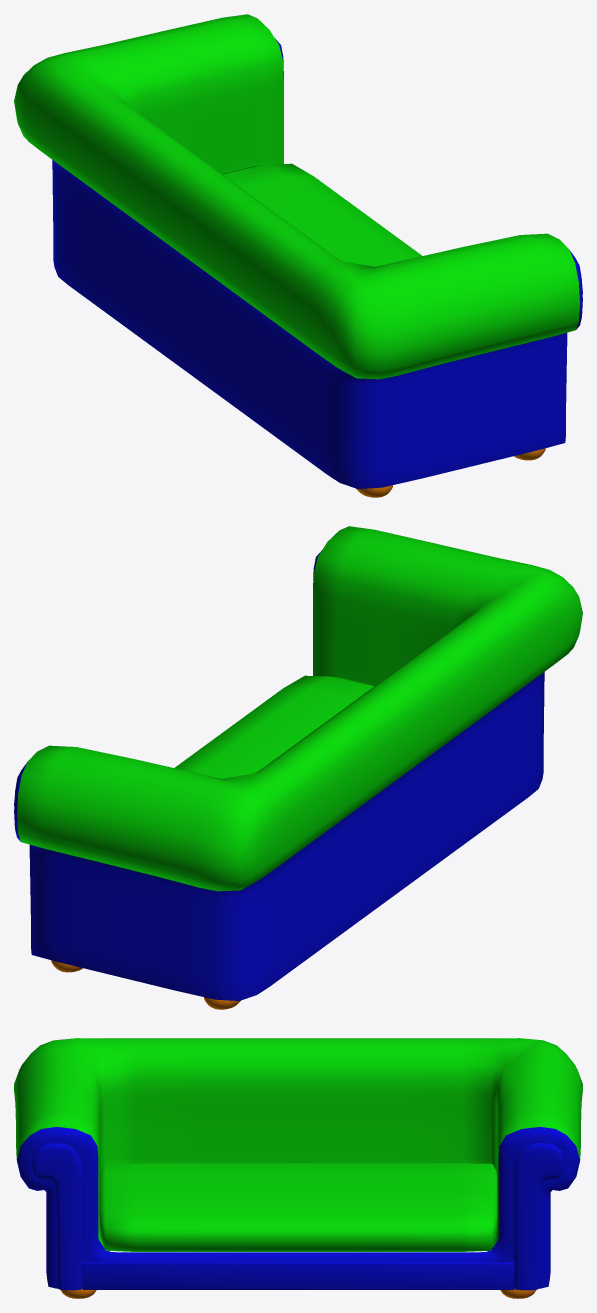
File: SM_Chesterfield_Chair.fbx
3 views of the same model, one above another, from view 1: azimuth 30°, elevation 25°; view 2: azimuth 150°, elevation 25°; view 3: azimuth 270°, elevation 25° (orthographic). The views are drawn at different scales.
Parts seen in each view (by area): view 1: SM_Chesterfield_Chair; view 2: SM_Chesterfield_Chair; view 3: SM_Chesterfield_Chair.
Boxes of the visible parts, x1,y1,x2,y2 form: SM_Chesterfield_Chair: (14, 14, 582, 497); SM_Chesterfield_Chair: (14, 526, 582, 1009); SM_Chesterfield_Chair: (14, 1038, 582, 1298).
Bounding box in the file's own units: 97.88 × 87.91 × 249.
